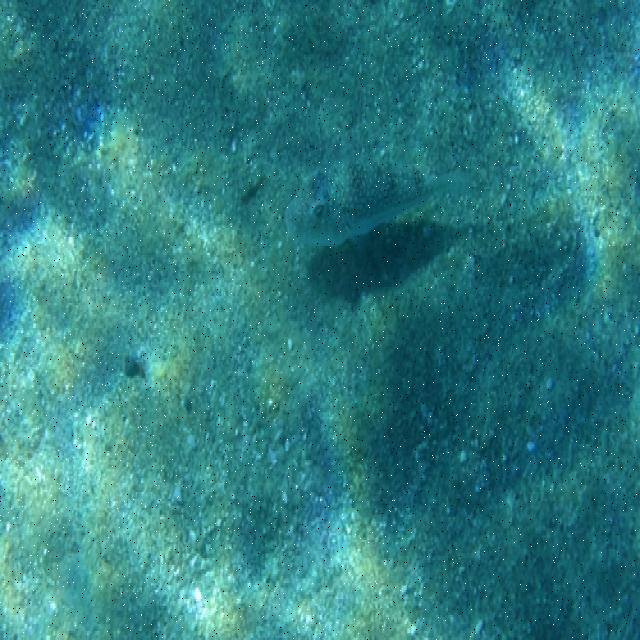Balik: (286, 162, 471, 245)
